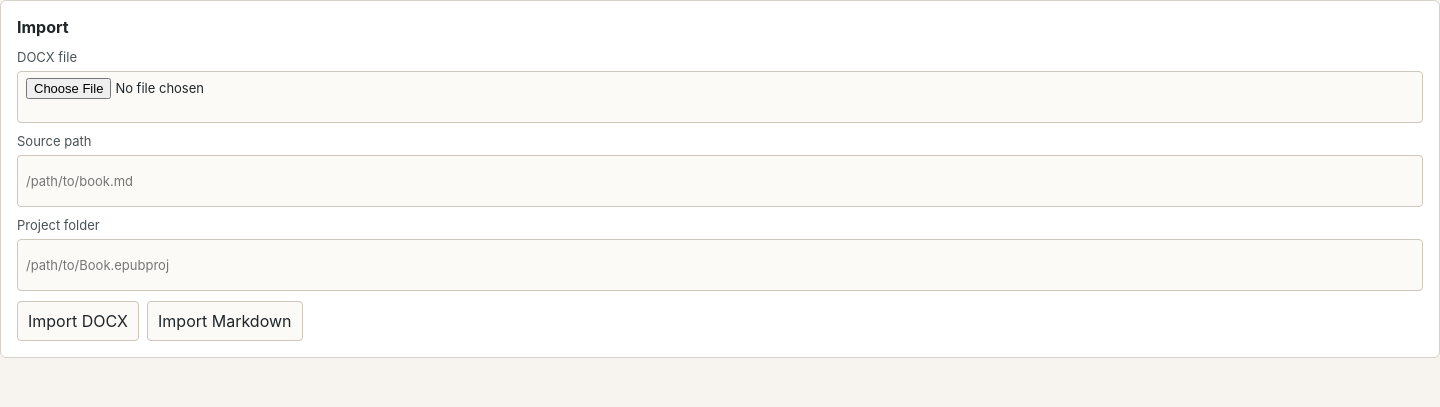
Scenario: ImportActions › submits source and project paths for markdown imports
Type "/tmp/book.md" into the field labelled "Source path" at (720, 181), box 17,155 -> 1423,207
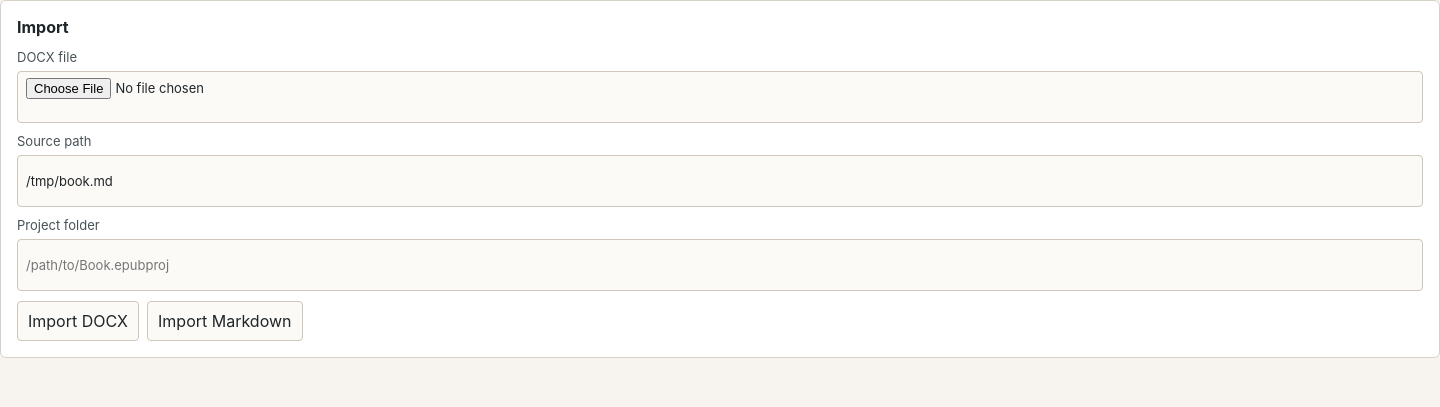
Type "/tmp/Draft.epubproj" into the field labelled "Project folder" at (720, 265), box 17,239 -> 1423,291
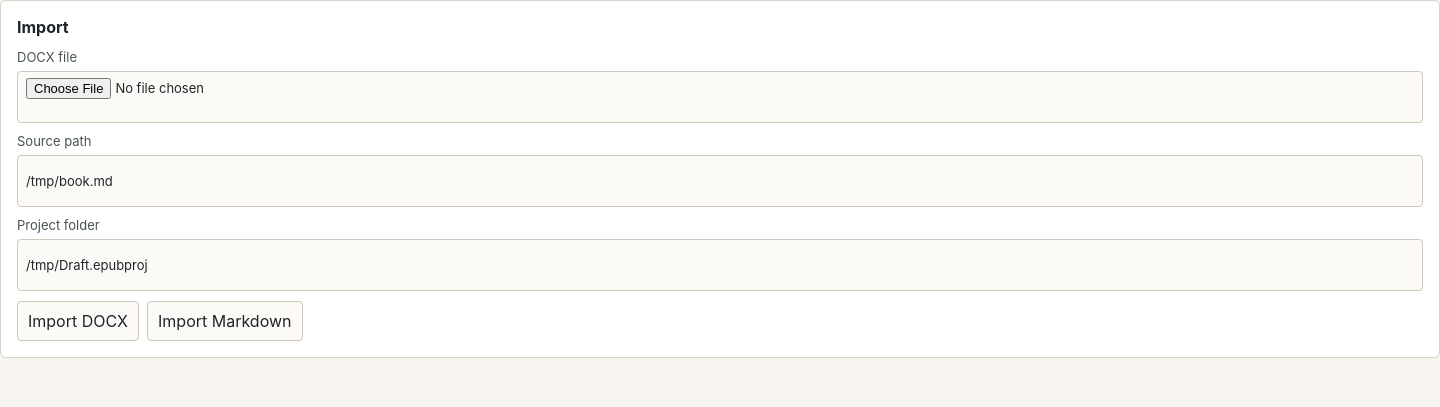
Click the button "Import Markdown" at (225, 321), box 147,301 -> 302,341
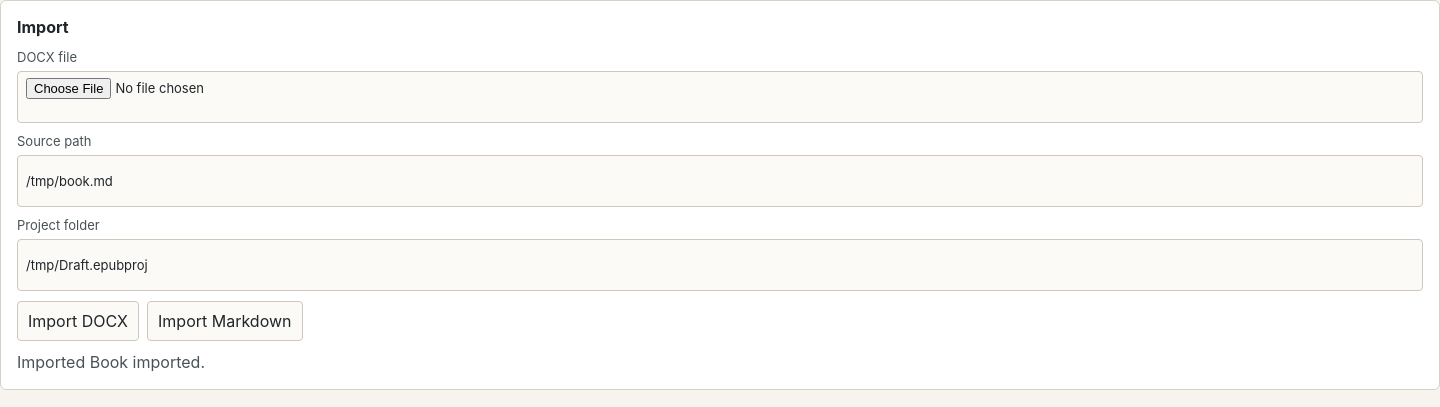
Result: the text "Imported Book imported." is shown at 17,352 -> 205,372
